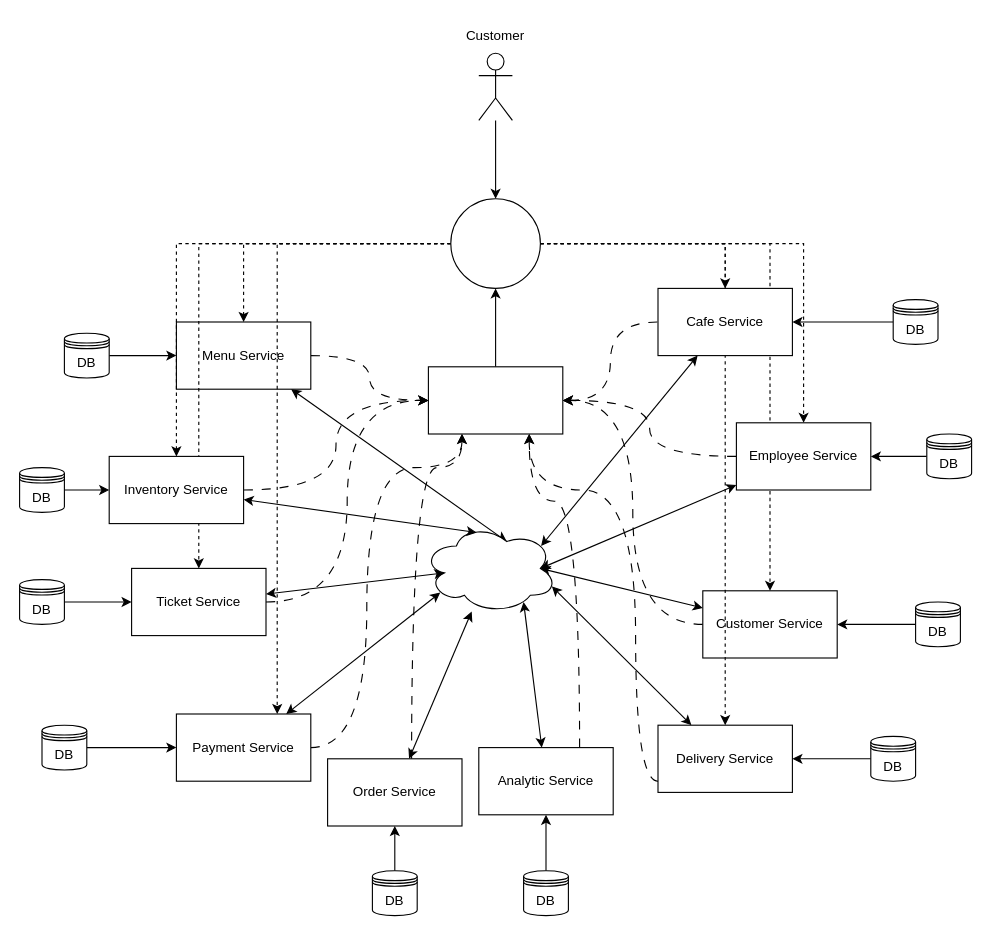
Image size: 991x935. Some labels were removed from this diagram. The shapes that lost their labels are listed below. From the top down, each one's centre as x and y in pixels, then its label:
the point at 495,243: API Gateway
the point at 495,400: Registry Service
the point at 489,567: Message Broker
